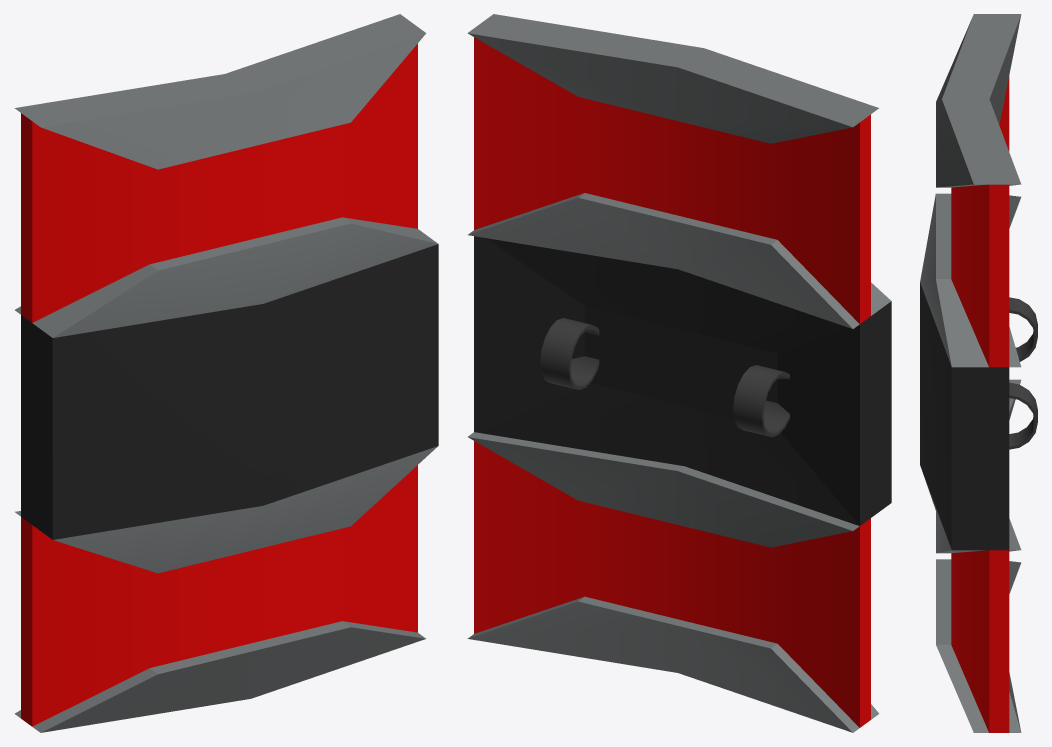
The model's file is Shield.fbx.
The picture shows the model from 3 angles, left to right: view 1: azimuth 30°, elevation 25°; view 2: azimuth 150°, elevation 25°; view 3: azimuth 270°, elevation 25°; orthographic projection. The views are drawn at different scales.
Visible parts, largest first — view 1: Shield; view 2: Shield; view 3: Shield.
Part boxes in pixels (bbox=[...]): Shield: bbox=[14, 14, 438, 732]; Shield: bbox=[467, 14, 891, 732]; Shield: bbox=[920, 14, 1037, 732].
Bounding box in the file's own units: 2 × 3 × 0.5845.
